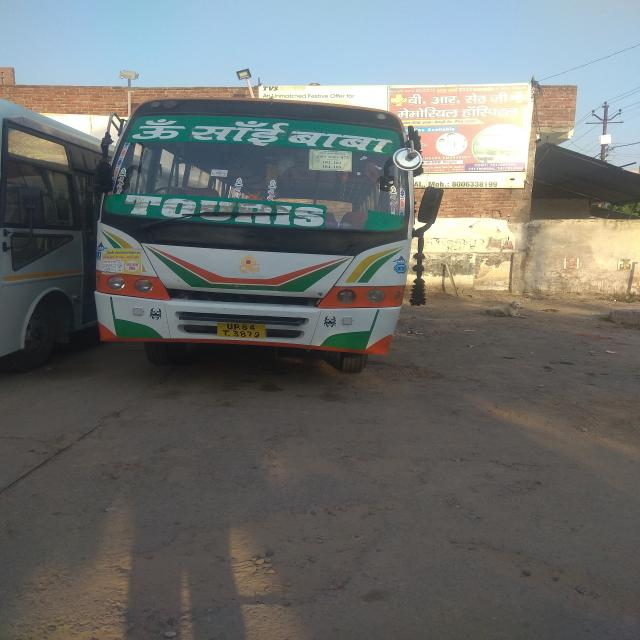Bus: (93, 97, 428, 376)
